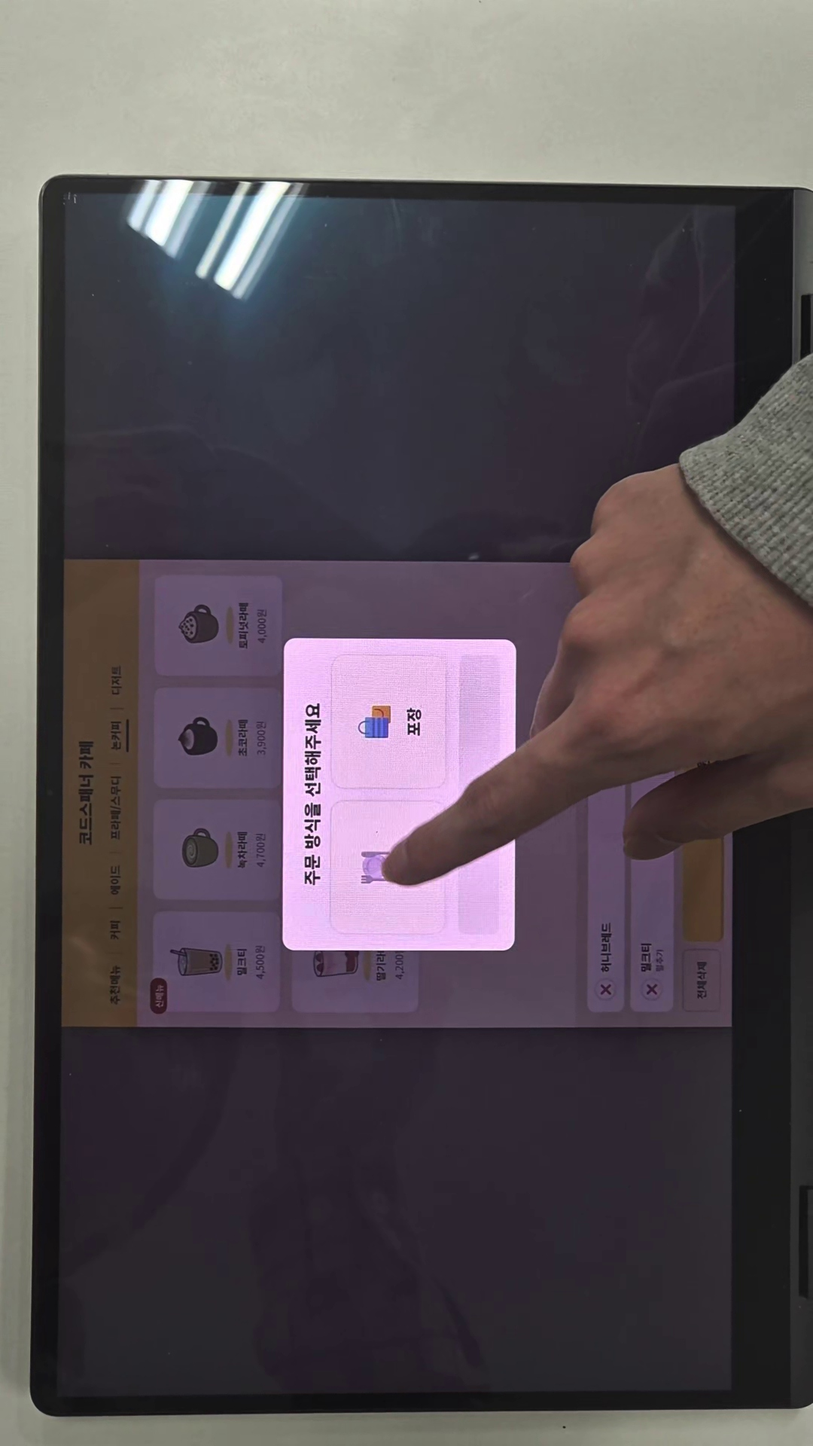action_button: (459, 655, 499, 935), (683, 949, 720, 1011)
category_tab: (109, 775, 122, 841), (109, 965, 122, 1006), (109, 866, 122, 895), (110, 721, 122, 751), (111, 665, 123, 695), (109, 920, 122, 941)
menu_back: (153, 911, 281, 1012), (154, 687, 282, 788), (153, 799, 280, 900), (155, 575, 282, 676)
menu_name: (238, 602, 249, 650), (236, 831, 249, 869), (237, 719, 249, 757), (236, 948, 248, 976)
menu_price: (255, 721, 268, 757), (256, 608, 268, 646), (254, 945, 267, 980), (255, 833, 267, 869)
option_button: (331, 655, 446, 788), (331, 801, 445, 934)
popup_modal: (282, 638, 517, 951)
